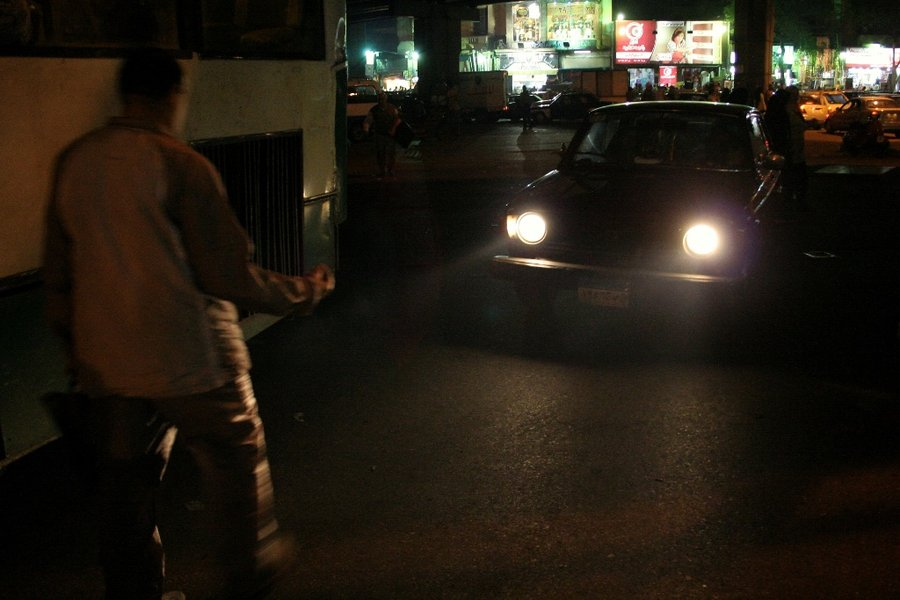car: (485, 98, 795, 340)
